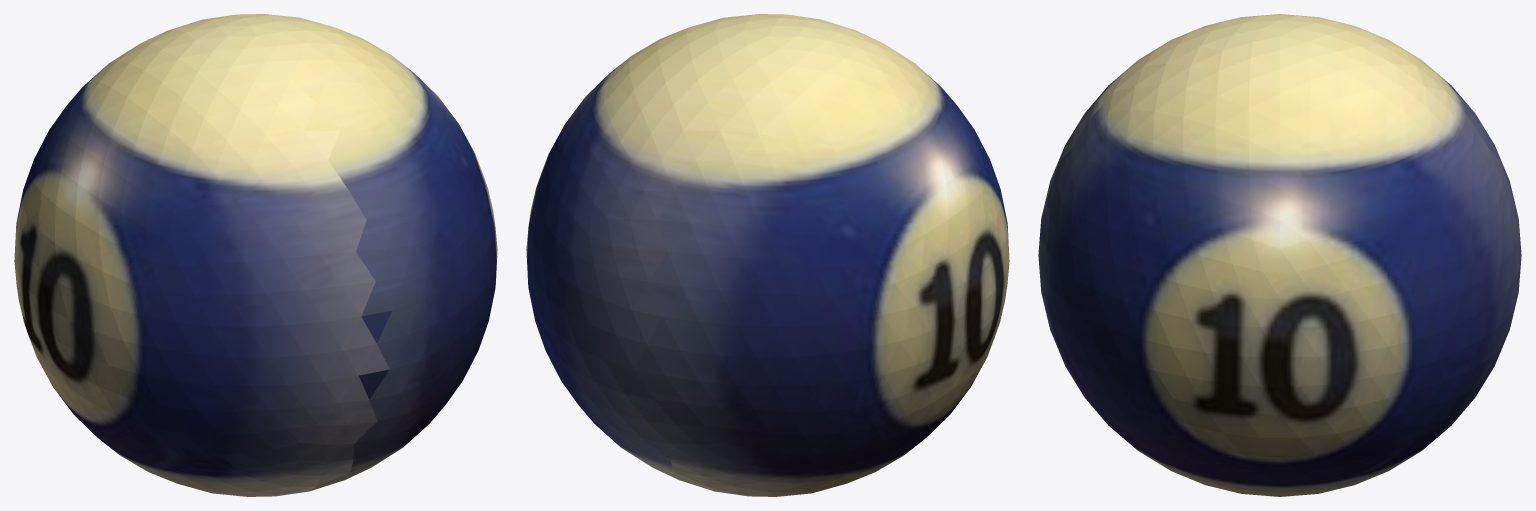
The model's file is balll_10.glb.
The picture shows the model from 3 angles, left to right: view 1: azimuth 30°, elevation 25°; view 2: azimuth 150°, elevation 25°; view 3: azimuth 270°, elevation 25°; orthographic projection.
Parts seen in each view (by area): view 1: Ball_1; view 2: Ball_1; view 3: Ball_1.
Boxes of the visible parts, bbox=[...] form: Ball_1: bbox=[14, 14, 497, 496]; Ball_1: bbox=[526, 14, 1009, 496]; Ball_1: bbox=[1038, 14, 1521, 496].
Size of the model in its own units: 2 by 2 by 2.
Materials: 1 (1 with a texture image).
